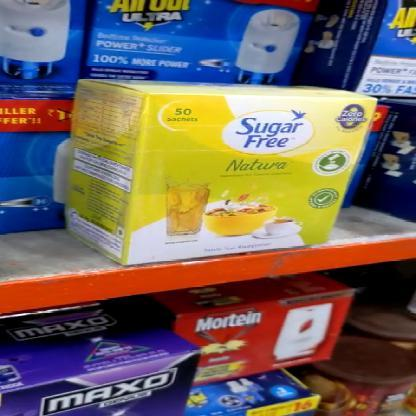SUGAR FREE NATURA SACHET 50: (149, 97, 377, 268)
